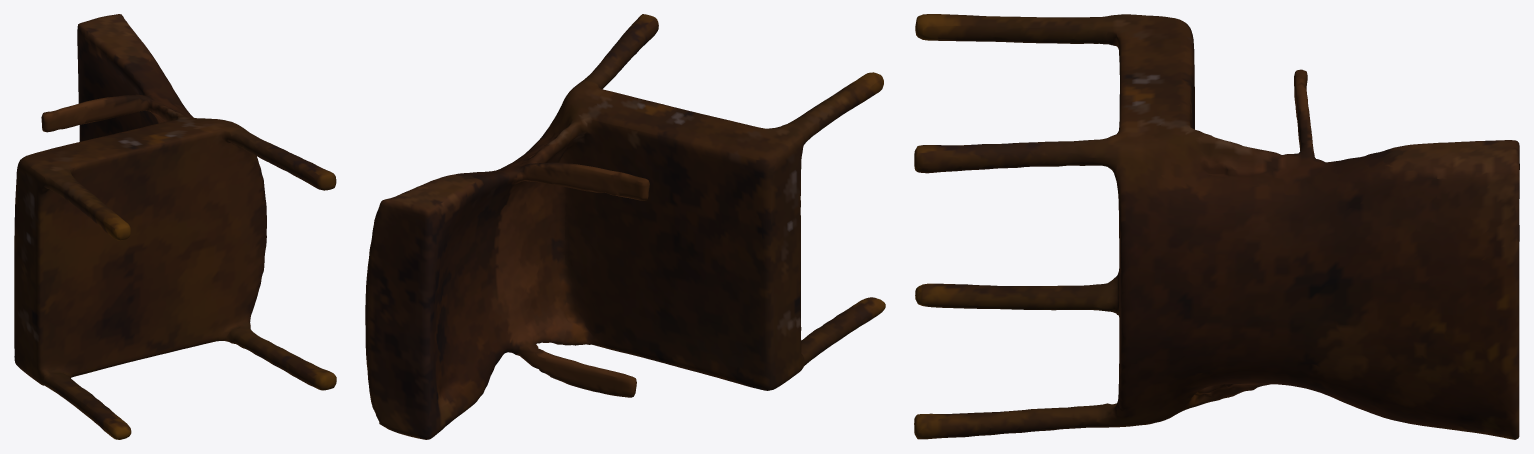
The model's file is A brown wooden chair with a black cushion, four le.glb.
3 renders of one model, left to right at view 1: azimuth 30°, elevation 25°; view 2: azimuth 150°, elevation 25°; view 3: azimuth 270°, elevation 25°, orthographic. The views are drawn at different scales.
Visible parts, largest first — view 1: A brown wooden chair with a black cushion, four le; view 2: A brown wooden chair with a black cushion, four le; view 3: A brown wooden chair with a black cushion, four le.
Boxes of the visible parts, left/top/right/bottom form: A brown wooden chair with a black cushion, four le: left=14, top=14, right=336, bottom=439; A brown wooden chair with a black cushion, four le: left=365, top=14, right=885, bottom=439; A brown wooden chair with a black cushion, four le: left=914, top=14, right=1519, bottom=439.
Size of the model in its own units: 0.6283 by 0.5284 by 1.
